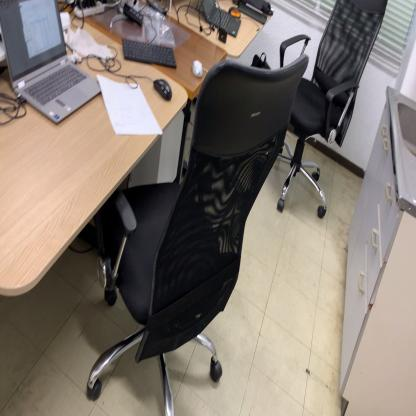chair: (86, 51, 310, 416), (272, 0, 391, 220)
